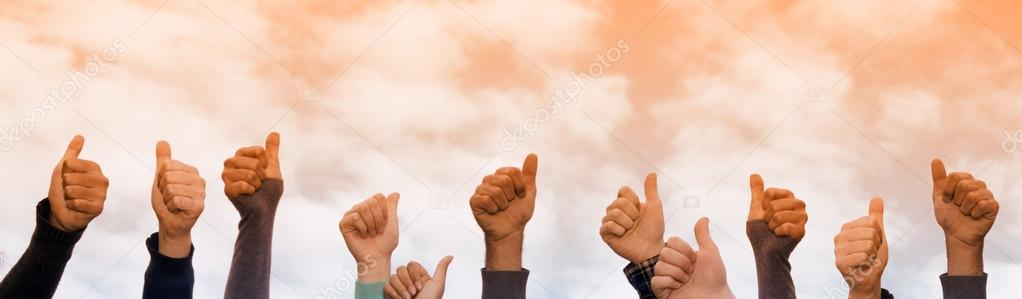thumbsup: (651, 216, 710, 292), (469, 153, 538, 216), (931, 157, 1000, 219), (57, 134, 110, 213), (153, 139, 207, 215), (599, 172, 659, 239), (833, 195, 884, 272), (749, 172, 808, 237), (220, 132, 280, 195), (382, 254, 454, 299), (339, 192, 400, 240)
